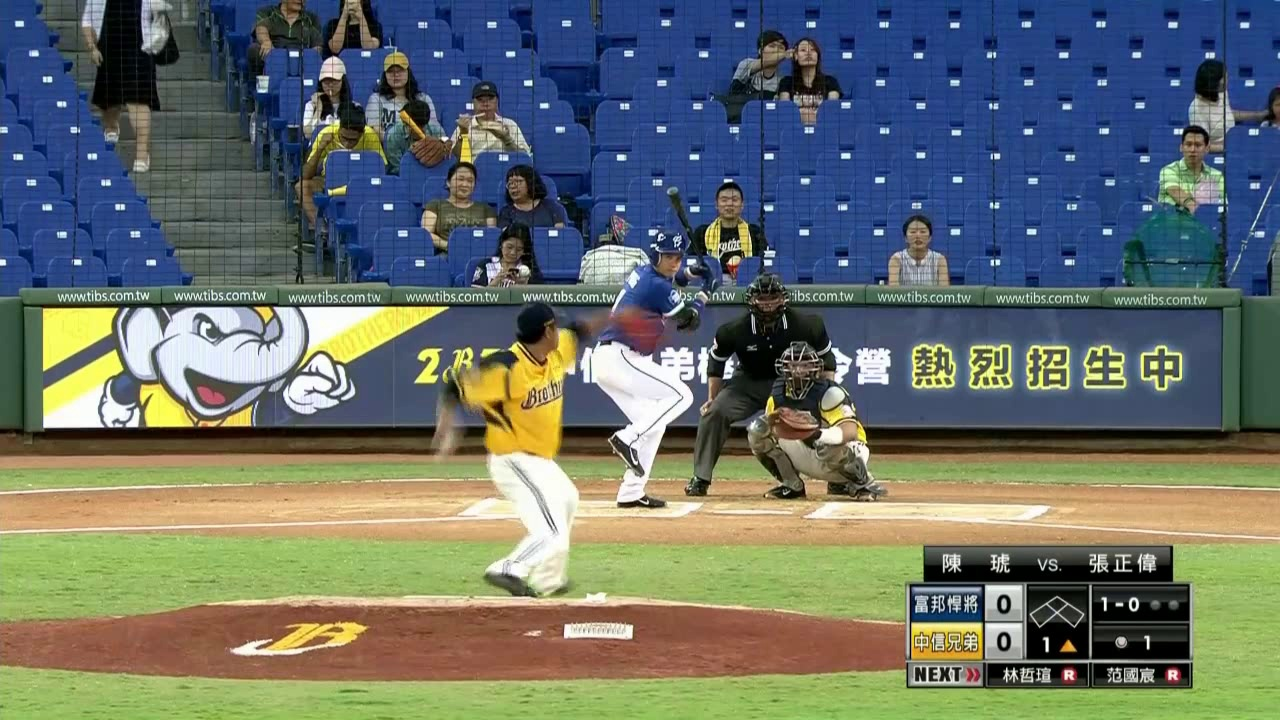ball: (435, 428, 451, 457)
base: (1027, 587, 1089, 632)
bat: (666, 187, 711, 280)
out: (1146, 593, 1181, 613)
score1: (986, 588, 1021, 624)
score2: (988, 627, 1021, 659)
strikeball: (1095, 590, 1143, 616)
total: (1107, 629, 1165, 655)
